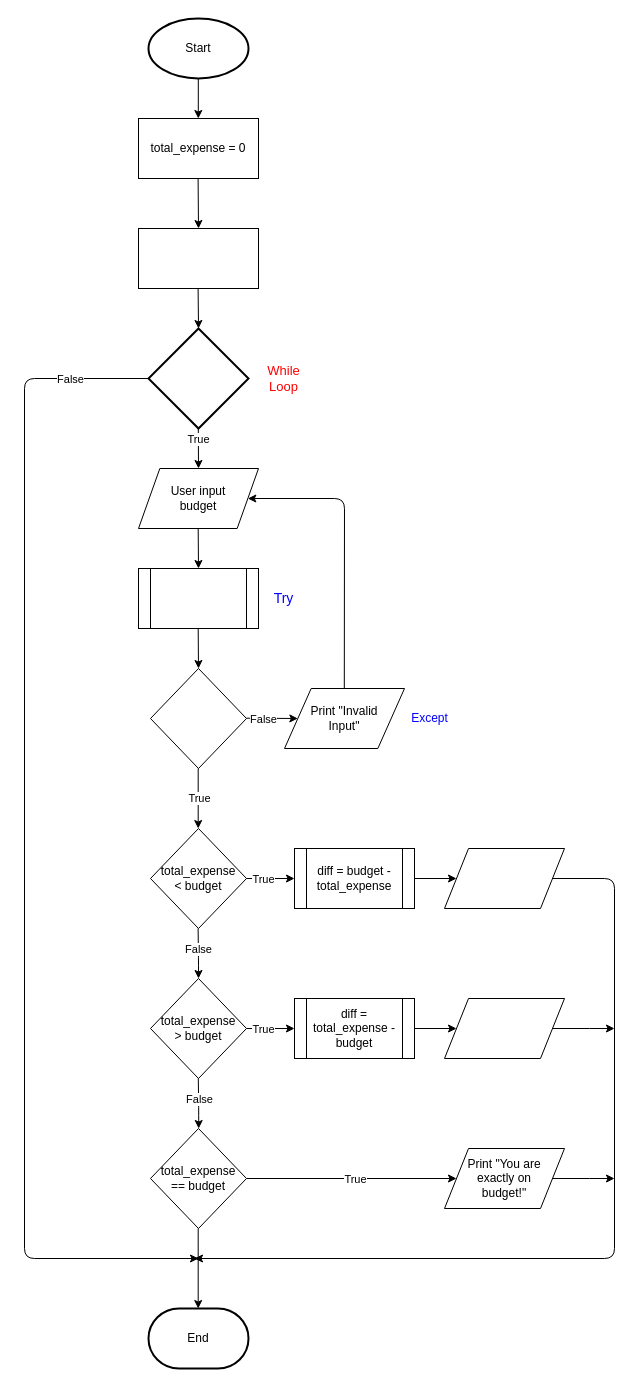
Image size: 640x1386. Some labels were removed from this diagram. The shapes that lost their labels are listed below. From the top down, each one's centre as x and y in pixels, then its label:
(198,258): resume = 'y'
(198,378): resume == 'y'
(198,598): Convert to Float
(198,718): Conversion Success?
(504,878): Print "You are", diff, "under budget"
(504,1028): Print "You are", diff, "over budget"
